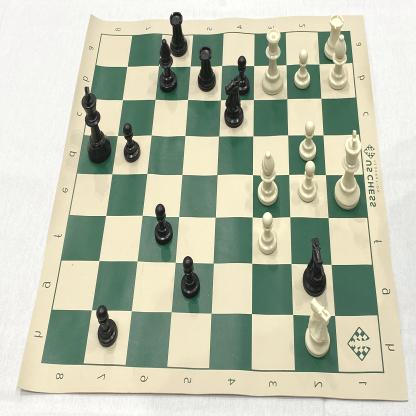black-bishop: (154, 36, 178, 96)
black-king: (80, 80, 114, 168)
black-knight: (297, 235, 330, 298), (219, 76, 246, 132)
black-pawn: (178, 249, 204, 302), (95, 302, 121, 352), (152, 198, 174, 248), (121, 119, 141, 165), (232, 52, 252, 95)
black-rook: (194, 42, 219, 95), (167, 6, 190, 60)
white-bishop: (324, 34, 354, 93), (254, 145, 282, 208)
white-king: (331, 127, 364, 212)
white-knight: (302, 294, 334, 362)
white-pawn: (255, 210, 281, 263), (294, 158, 322, 206), (291, 44, 313, 91), (296, 119, 320, 162)
white-queen: (258, 24, 287, 100)
white-rook: (320, 13, 348, 68)
